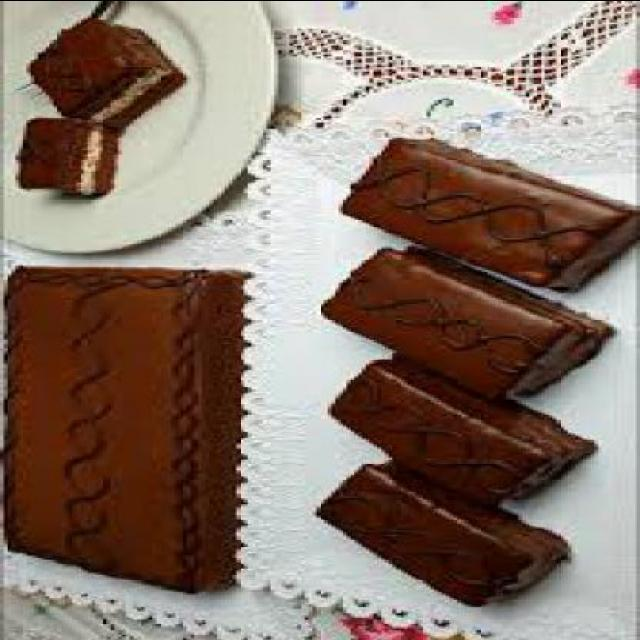Merendine packaged: (339, 132, 636, 283), (320, 243, 617, 392), (313, 463, 602, 606), (324, 354, 598, 497), (11, 14, 182, 194)
